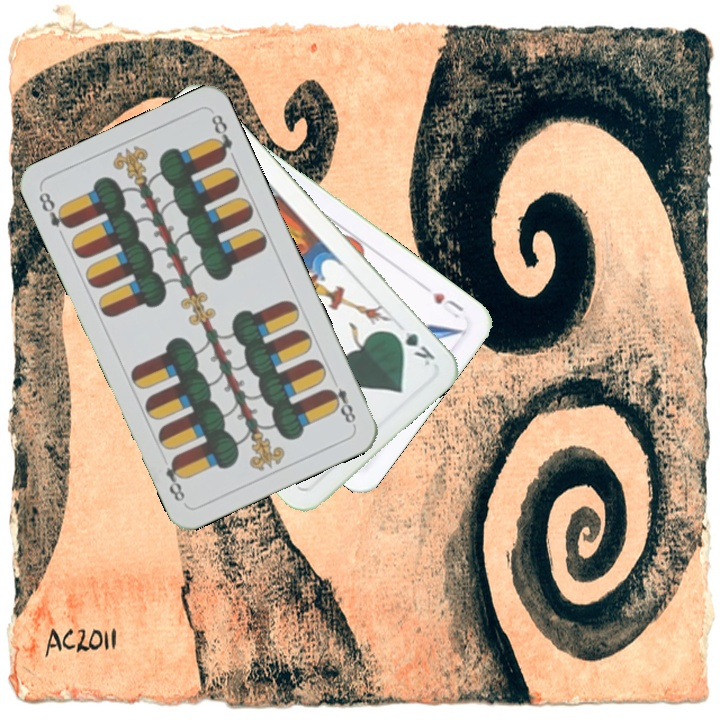E8: (322, 372, 359, 429), (34, 187, 74, 232)
GK: (387, 325, 438, 369)
HU: (419, 281, 466, 322)
